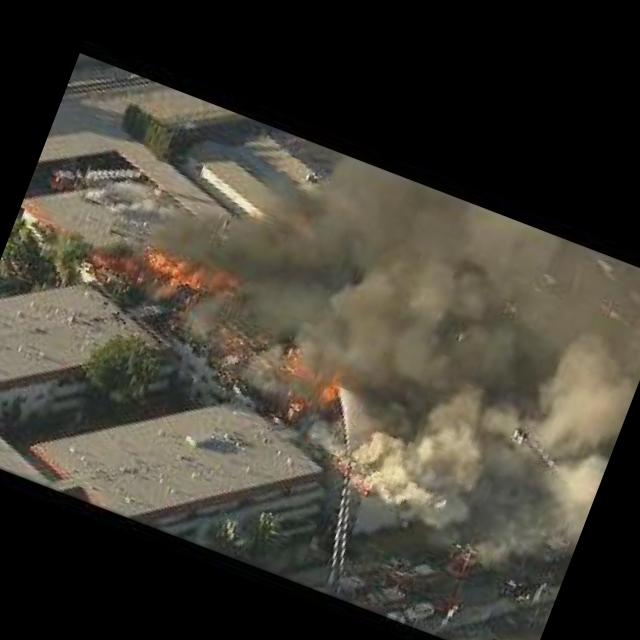fire: (156, 244, 245, 304), (90, 245, 126, 278), (287, 356, 318, 379), (319, 378, 344, 403), (286, 397, 308, 420)
smoke: (183, 116, 640, 462), (332, 361, 612, 580)
